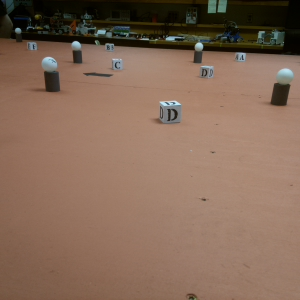blockA: (235, 52, 247, 63)
blockB: (104, 42, 115, 51)
blockC: (112, 57, 124, 72)
blockD: (159, 99, 182, 124), (199, 66, 214, 78)
blockF: (26, 41, 39, 51)
obstacle: (39, 57, 63, 91), (270, 69, 292, 106), (192, 43, 205, 65), (71, 40, 82, 60), (15, 26, 23, 44)
start: (83, 71, 114, 79)
